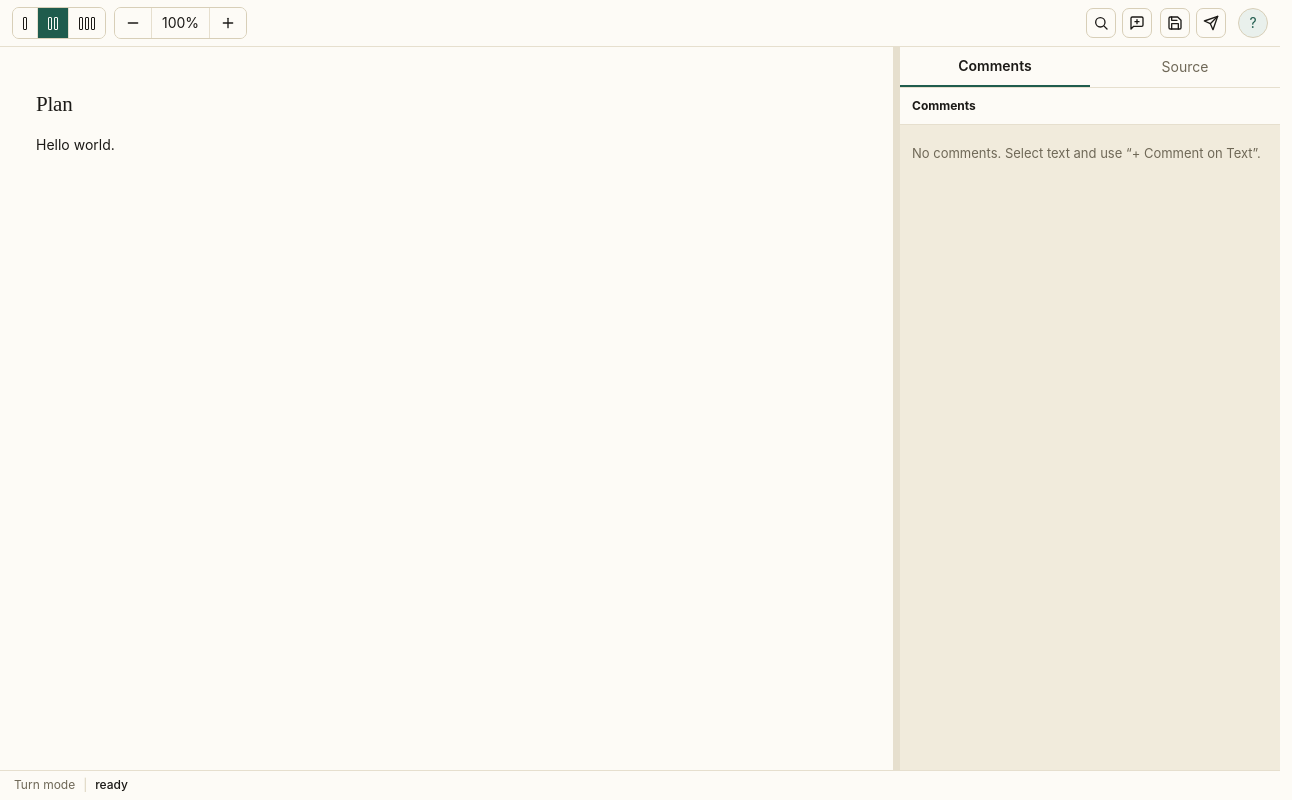
Test: App comment creation (memory-backed) › creates a document-level comment via ⌘/Ctrl+Enter
The width and height of the screenshot is (1292, 800).
Click the button named "comment on doc". click: x=1137, y=23
box: [1122,8,1152,38]
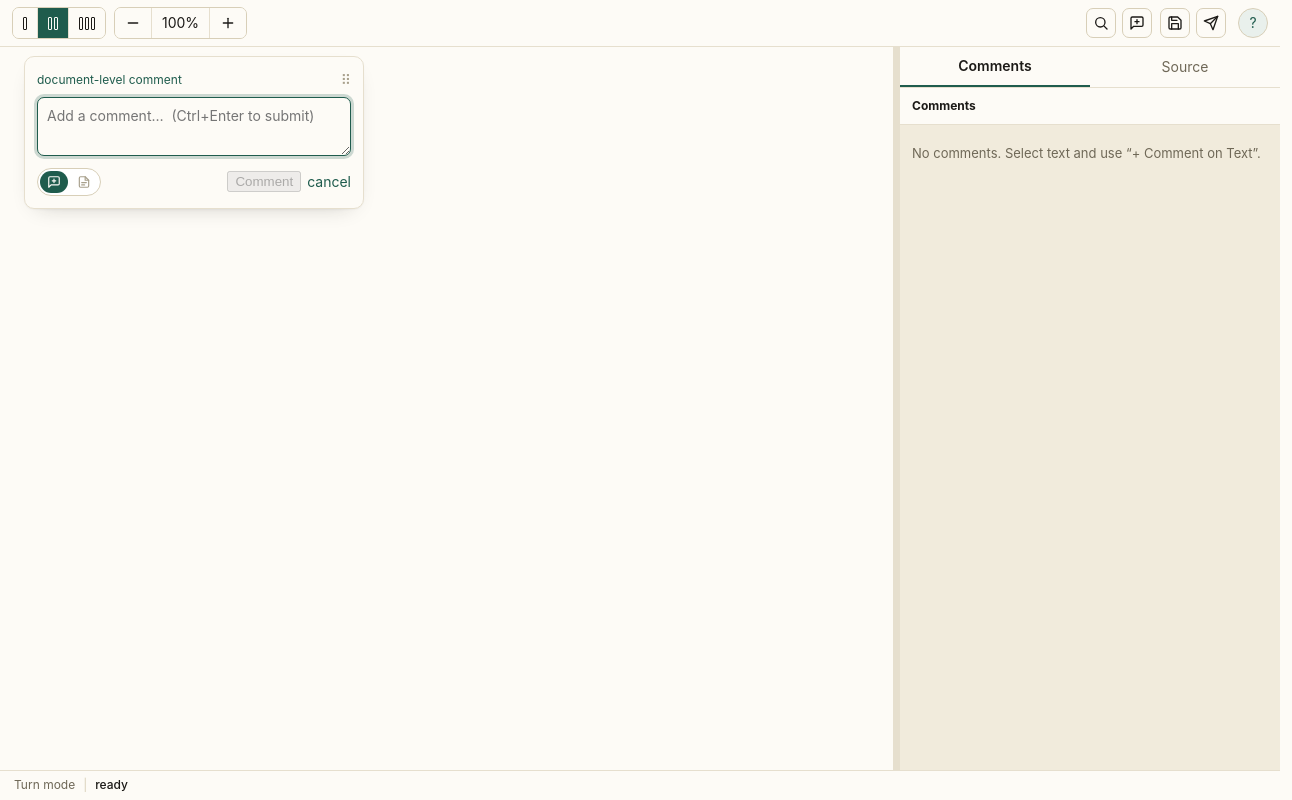
Type "Keyboard-submitted note." into the dropdown with placeholder "Add a comment… (Ctrl+Enter to submit)". click: x=194, y=126
box: [37,97,351,156]
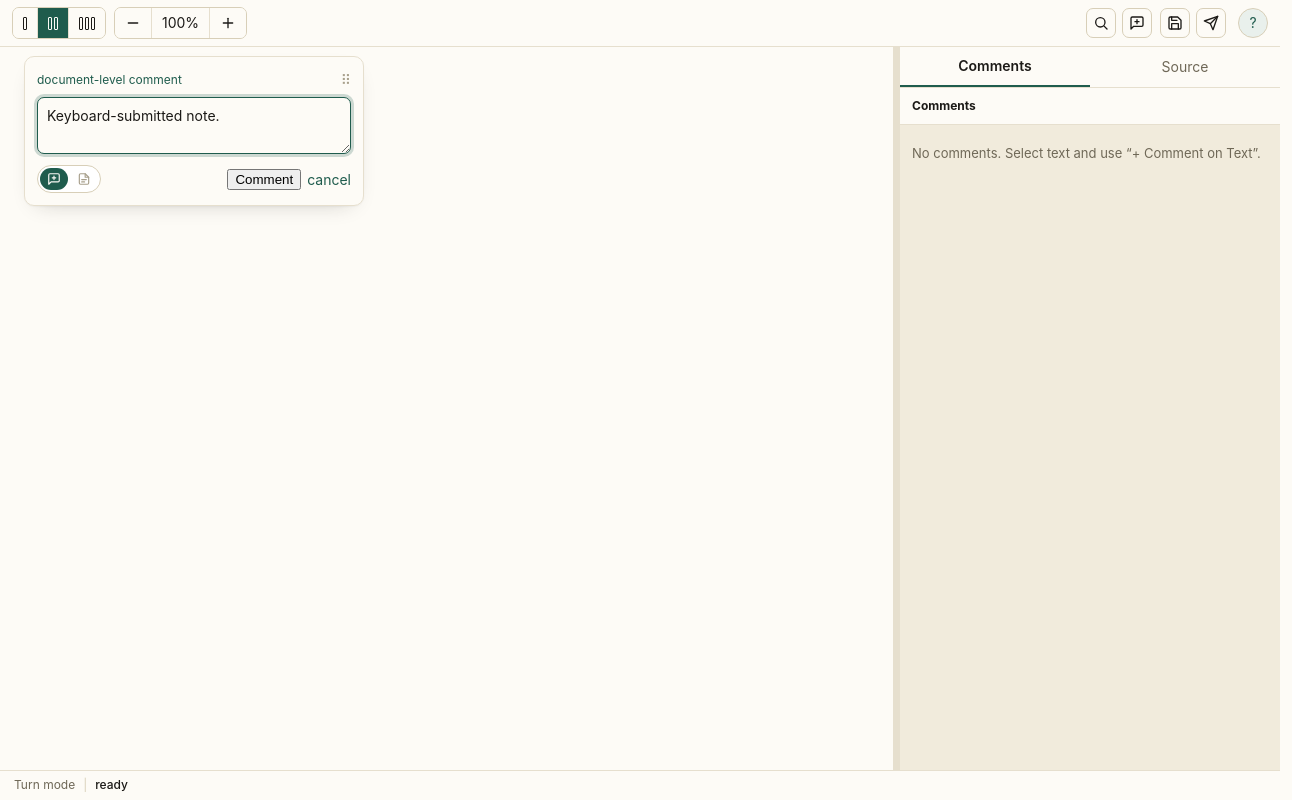
Press Enter in the dropdown with placeholder "Add a comment… (Ctrl+Enter to submit)", box [37,97,351,154]
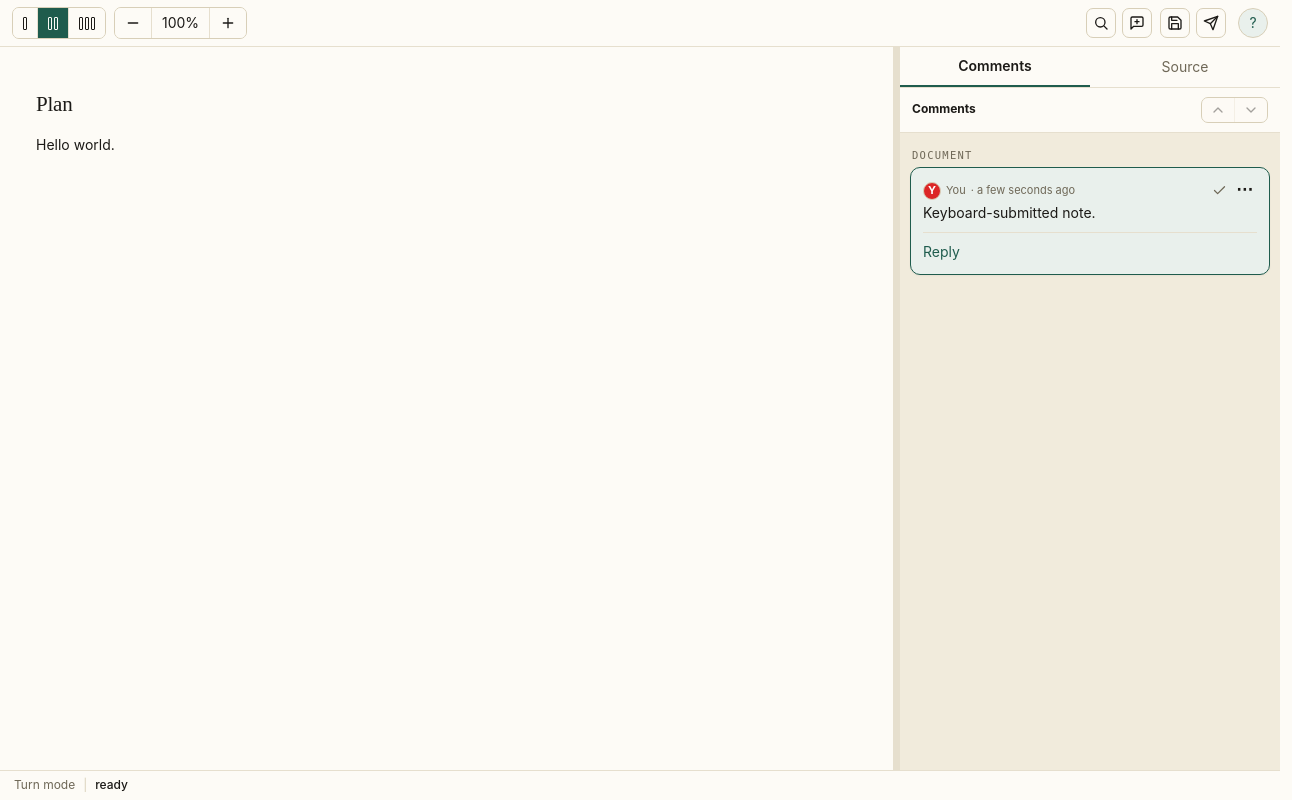
Expected: the field with placeholder "Add a comment" is not shown
Expected: the text "Keyboard-submitted note." is shown, [923,204,1096,221]
